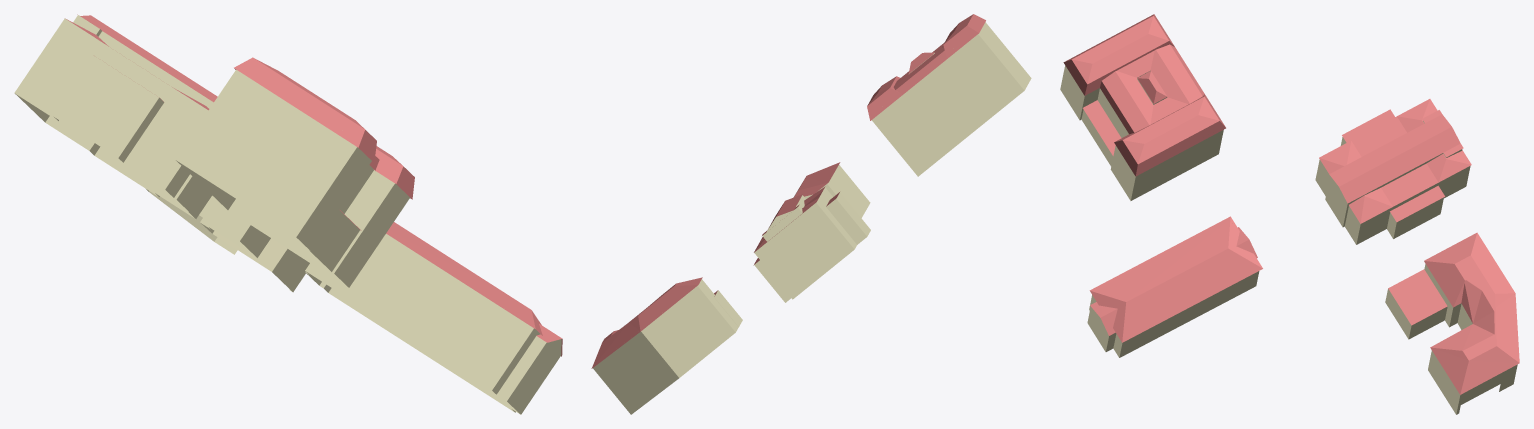
The model's file is tile_027.glb.
The picture shows the model from 3 angles, left to right: view 1: azimuth 30°, elevation 25°; view 2: azimuth 150°, elevation 25°; view 3: azimuth 270°, elevation 25°; orthographic projection. The views are drawn at different scales.
Parts seen in each view (by area): view 1: Batched_Building_ID_EDED7115-EA27-4008-909A-0AB37A800D7D; view 2: Batched_Building_ID_EDED7115-EA27-4008-909A-0AB37A800D7D; view 3: Batched_Building_ID_EDED7115-EA27-4008-909A-0AB37A800D7D.
Part boxes in pixels (<box>): Batched_Building_ID_EDED7115-EA27-4008-909A-0AB37A800D7D: <box>14,14,562,414</box>; Batched_Building_ID_EDED7115-EA27-4008-909A-0AB37A800D7D: <box>591,14,1031,414</box>; Batched_Building_ID_EDED7115-EA27-4008-909A-0AB37A800D7D: <box>1060,14,1519,414</box>.
Size of the model in its own units: 98.53 by 109 by 145.
